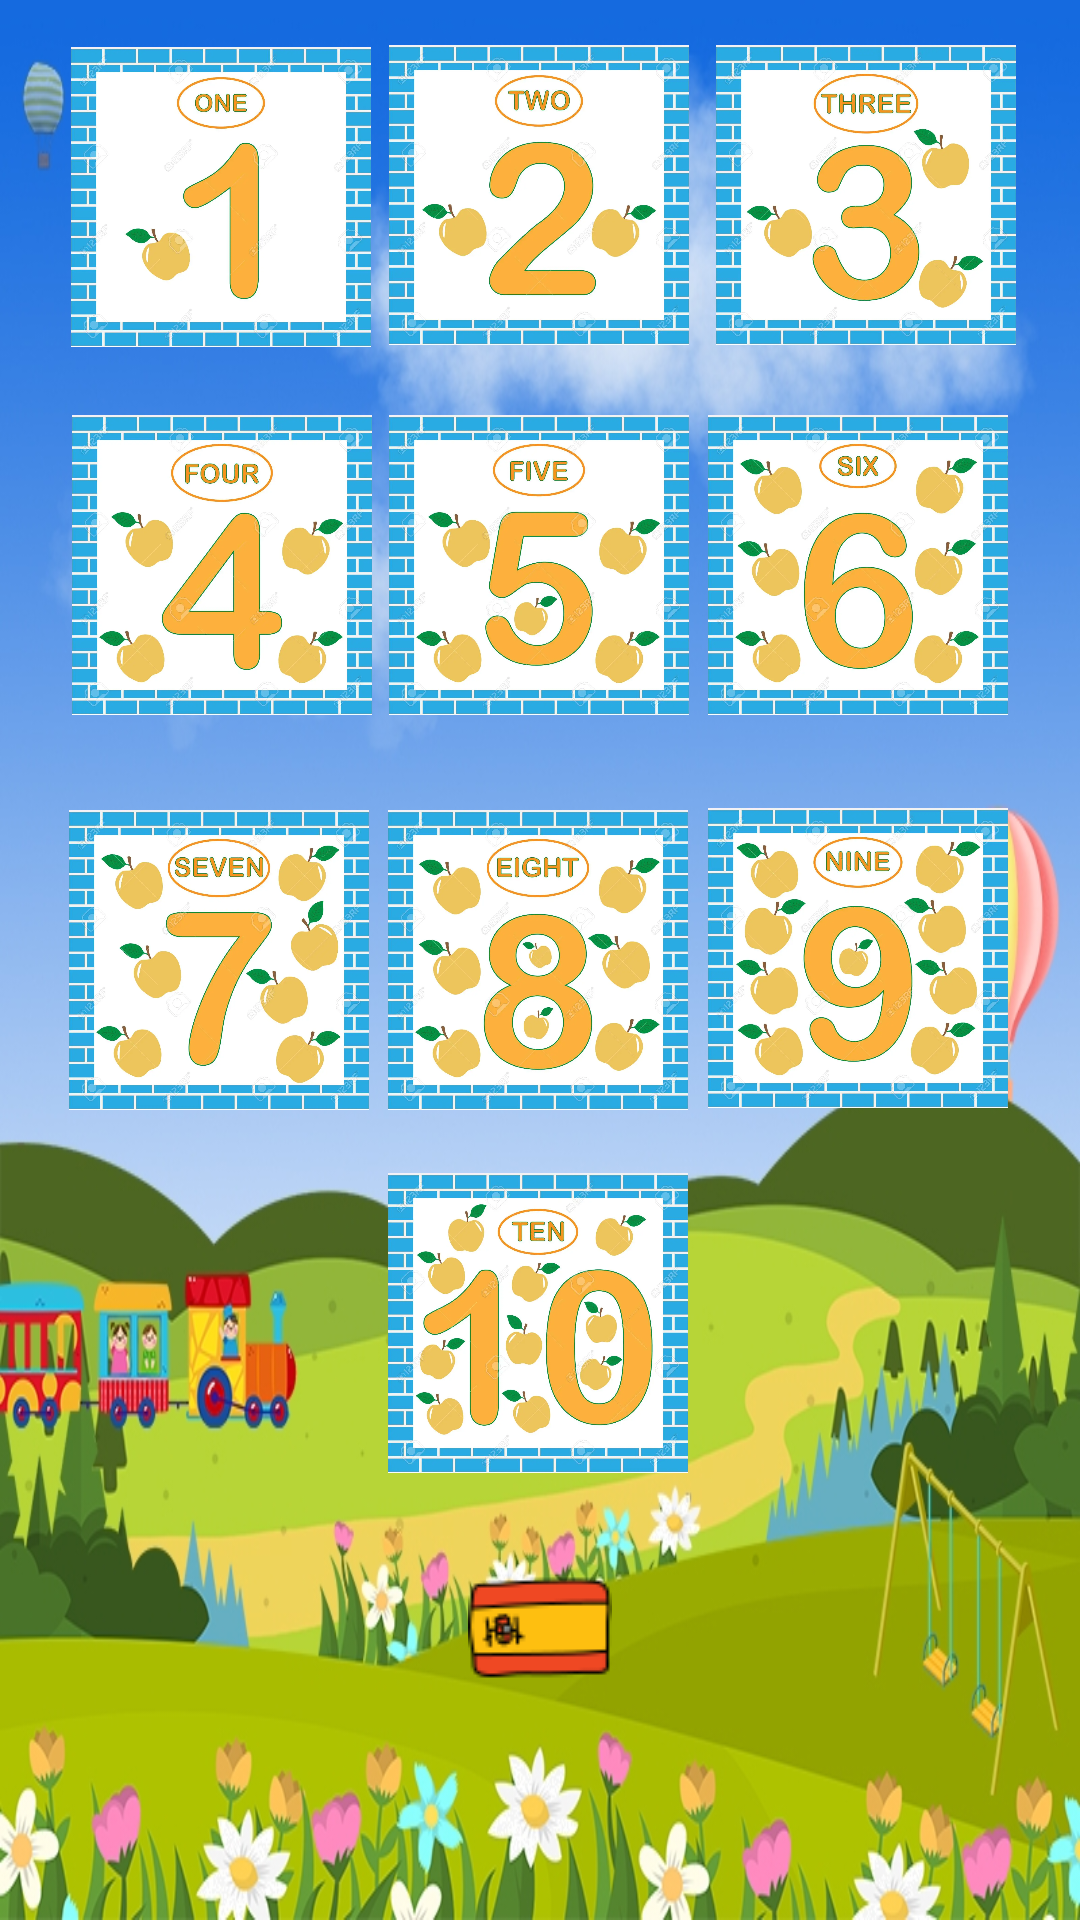

Icons on this 1080x1920 Android screen, each with the point to tap as [x,y]:
espanol: [540,1629]
